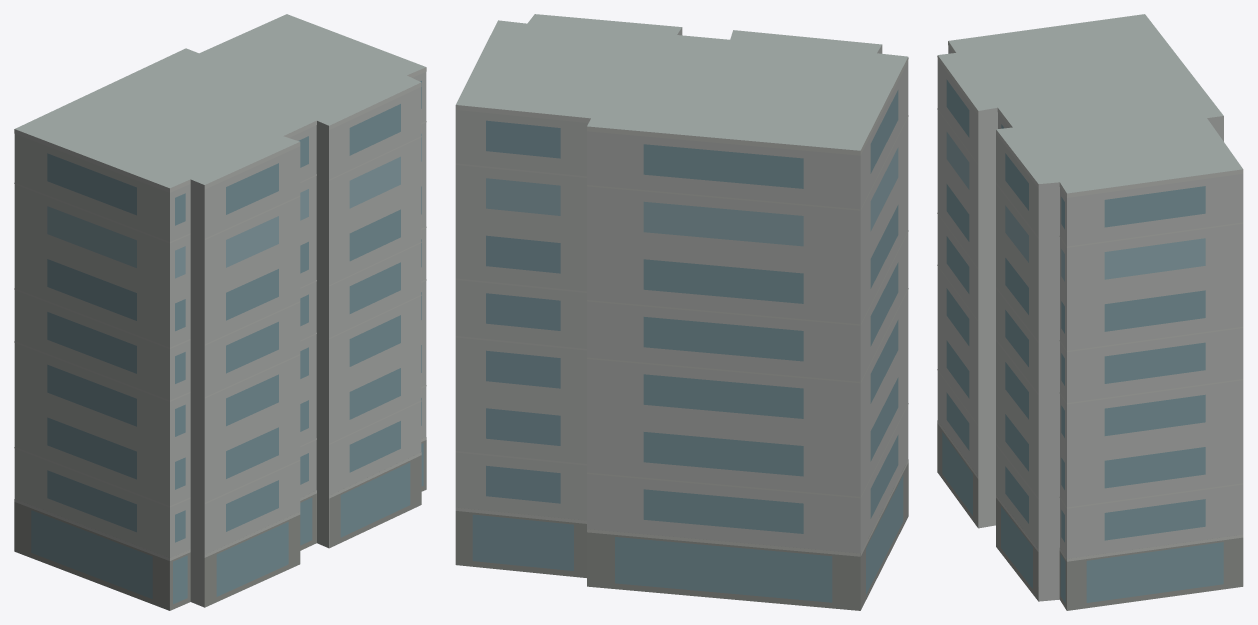
Rendered from survey-upis-32618934.glb.
3 renders of one model, left to right at view 1: azimuth 30°, elevation 25°; view 2: azimuth 150°, elevation 25°; view 3: azimuth 270°, elevation 25°, orthographic. The views are drawn at different scales.
Parts seen in each view (by area): view 1: survey-upis-32618934.tmp; view 2: survey-upis-32618934.tmp; view 3: survey-upis-32618934.tmp.
Part boxes in pixels (x1,y1,x2,y2): survey-upis-32618934.tmp: (14,14,426,610); survey-upis-32618934.tmp: (455,14,908,610); survey-upis-32618934.tmp: (937,14,1243,610).
Bounding box in the file's own units: 21.05 × 22.8 × 15.16.
